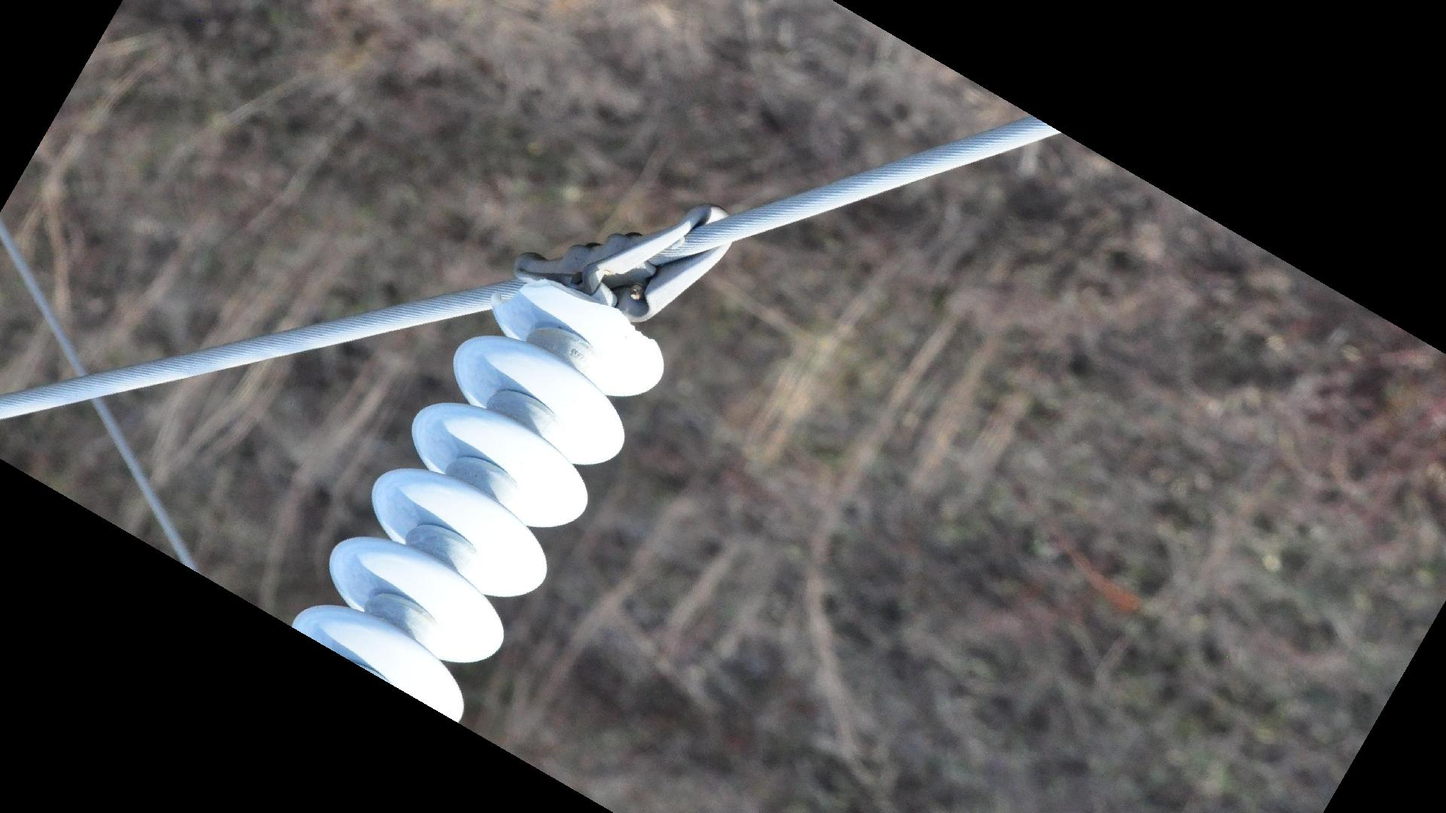insulator: (291, 270, 675, 729)
insulator_breakage: (477, 273, 666, 360)
